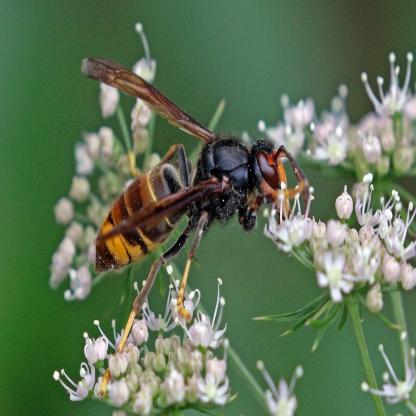asian: (74, 60, 311, 344)
